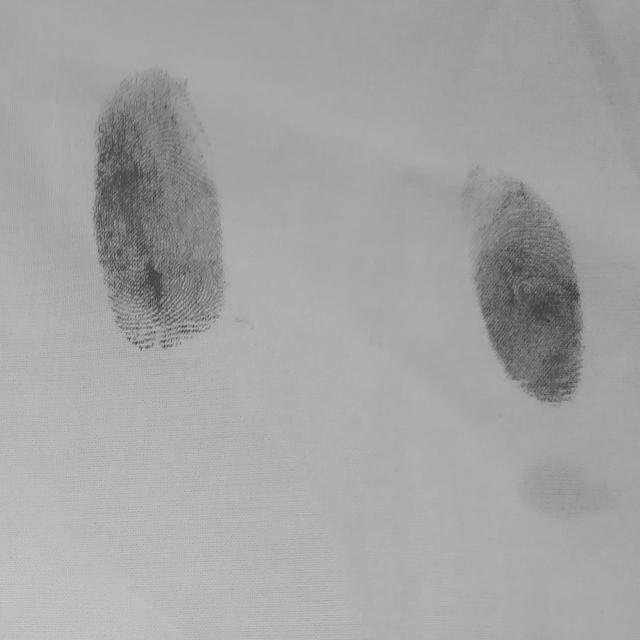Stain: (93, 68, 224, 348), (463, 166, 584, 402), (521, 460, 615, 518)
